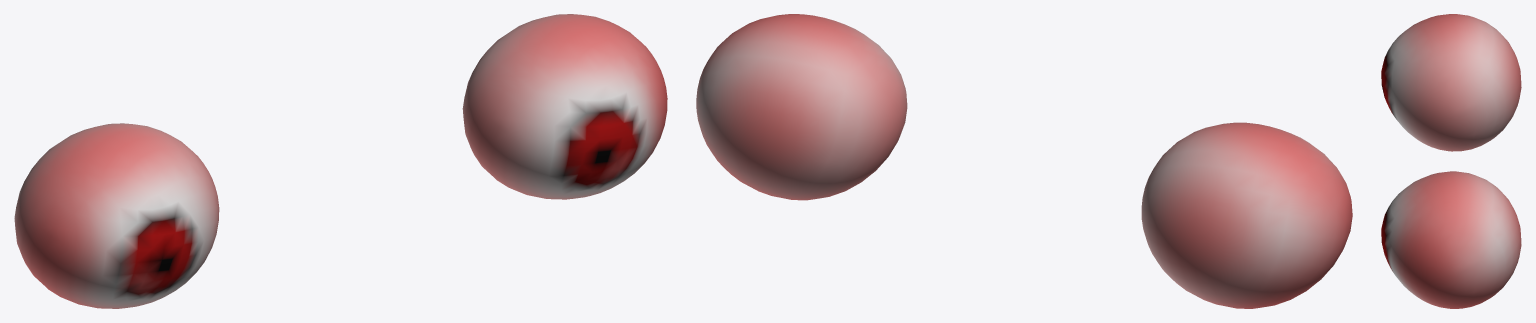
Rendered from 14374-50c7cf91-2cb1-4bac-926b-2c225c2c2243.glb.
3 views of the same model, side by side, from view 1: azimuth 30°, elevation 25°; view 2: azimuth 150°, elevation 25°; view 3: azimuth 270°, elevation 25° (orthographic). The views are drawn at different scales.
Parts seen in each view (by area): view 1: Object_19.Mesh; view 2: Object_19.Mesh; view 3: Object_19.Mesh.
Boxes of the visible parts, x1,y1,x2,y2 form: Object_19.Mesh: (14,14,667,308); Object_19.Mesh: (696,14,1352,308); Object_19.Mesh: (1381,14,1521,308).
Bounding box in the file's own units: 0.00163 × 0.000416 × 0.000435.
